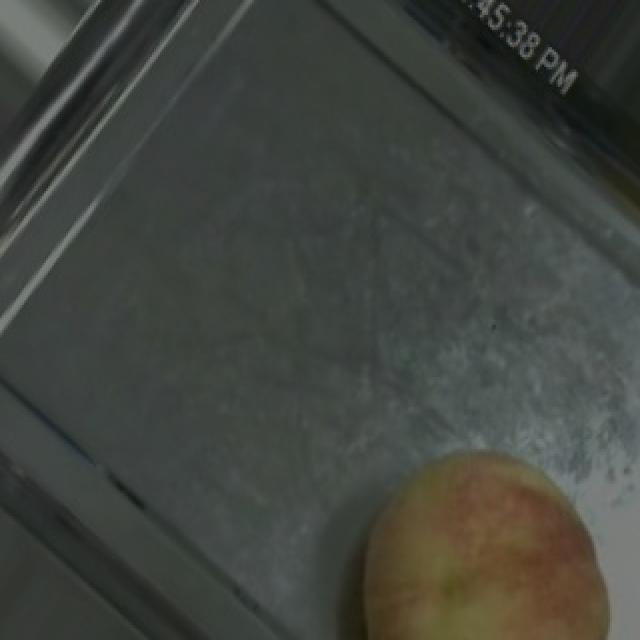Fruit: (320, 426, 634, 640)
